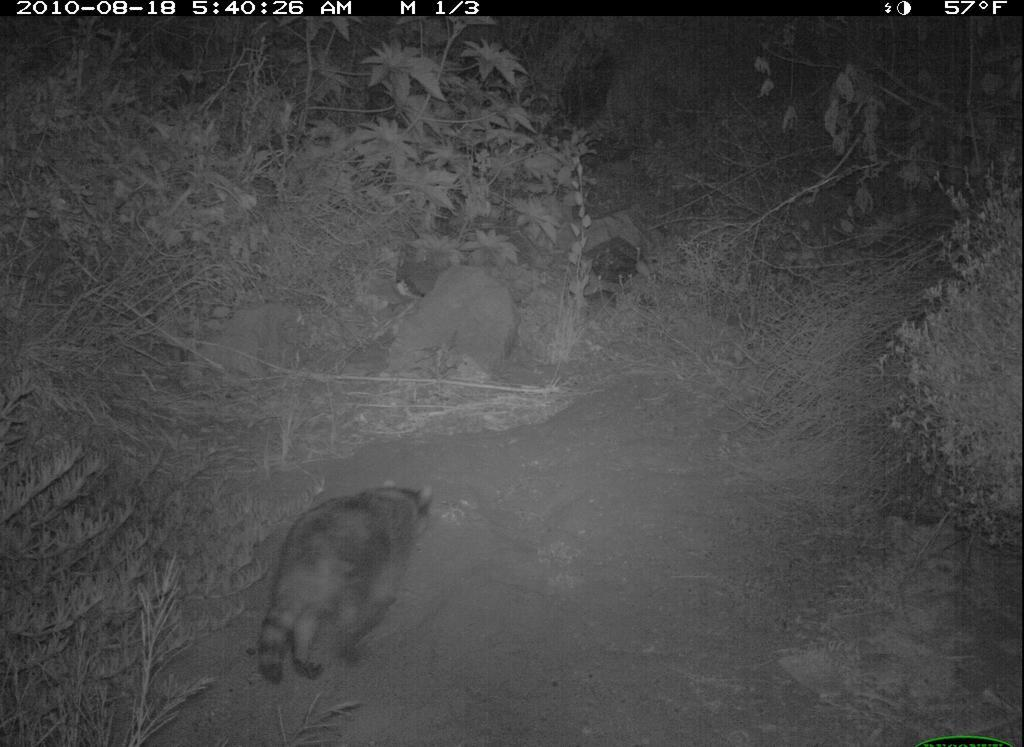raccoon: (240, 469, 442, 693)
